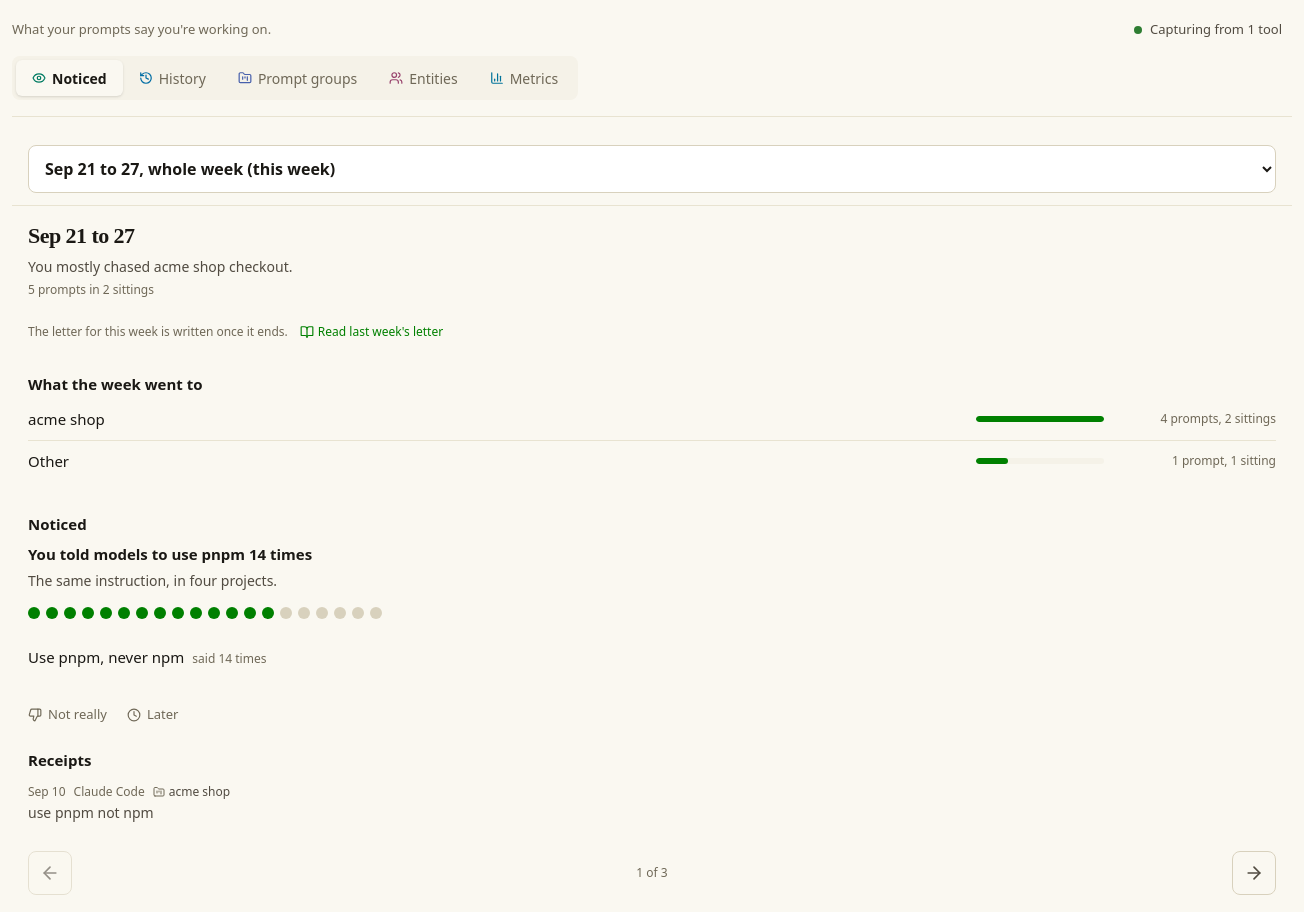
it: phone › the sidebar folds into a period picker; Noticed shows one finding per screen
This screenshot has width=1304, height=912.
Expected: the element with test id "featured-finding" shows "pnpm", [28, 544, 312, 564]
Expected: the dropdown with test id "period-picker" shows "Sep 21 to 27, whole week (this week)", [28, 145, 1276, 193]
Step 1. Click the button named "Next finding" → x=1254, y=873, box [1232, 851, 1276, 895]
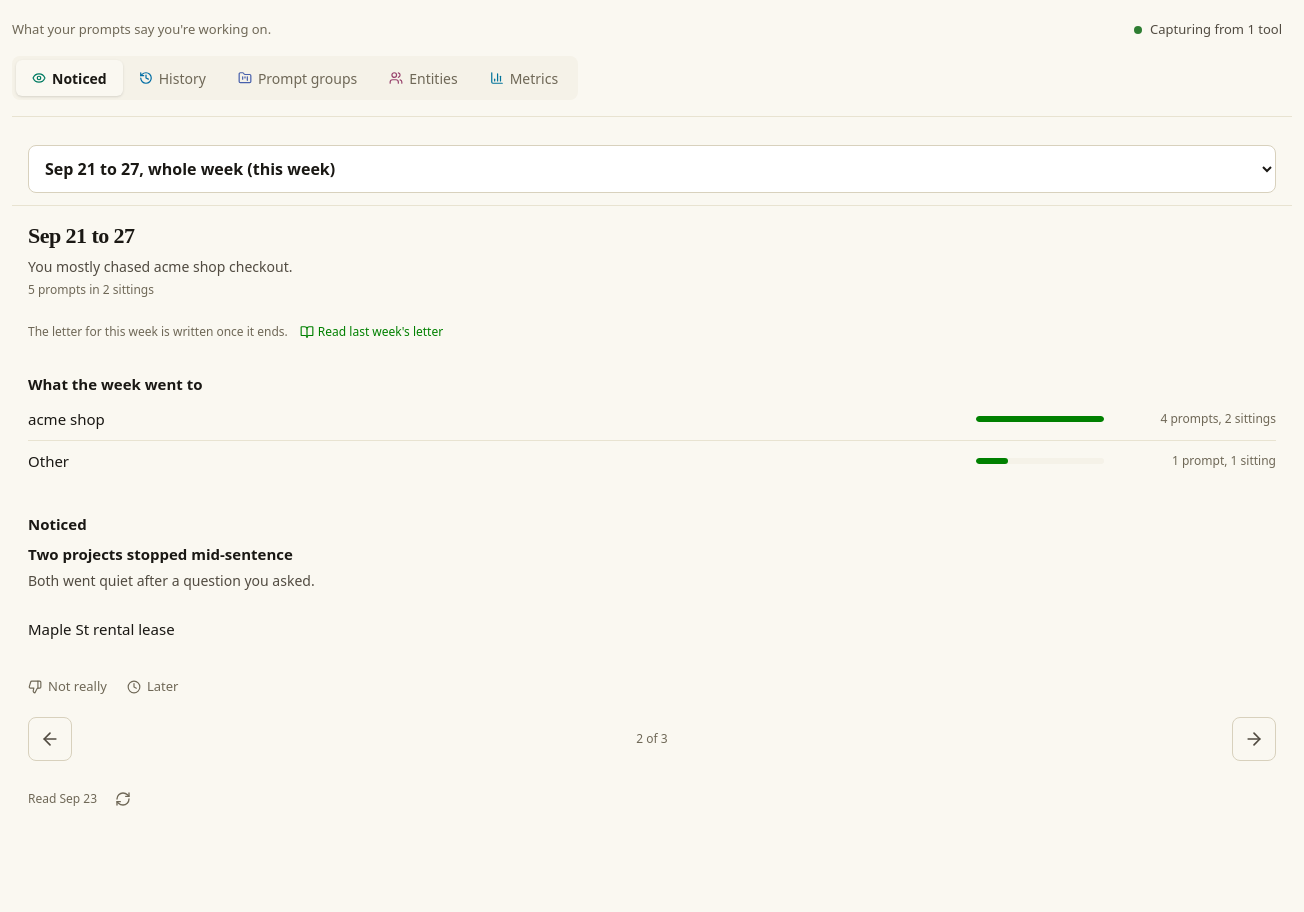
Result: the element with test id "featured-finding" shows "Two projects stopped" at [28, 544, 293, 564]
Step 2. Select "Tue, Sep 15" in the dropdown with test id "period-picker" → x=652, y=169, box [28, 145, 1276, 193]
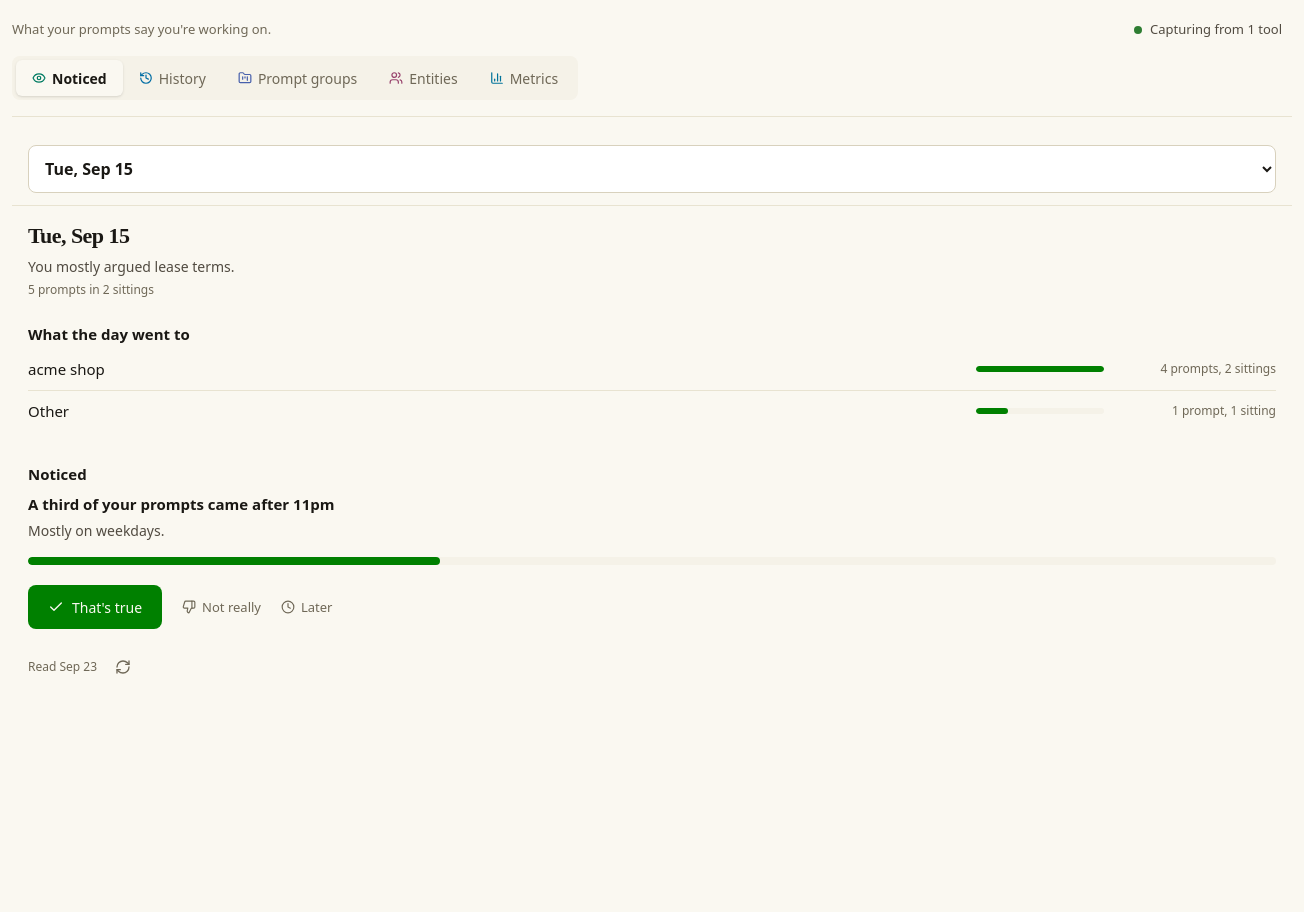
Result: the text "You mostly argued lease terms." is shown at [28, 256, 234, 276]
